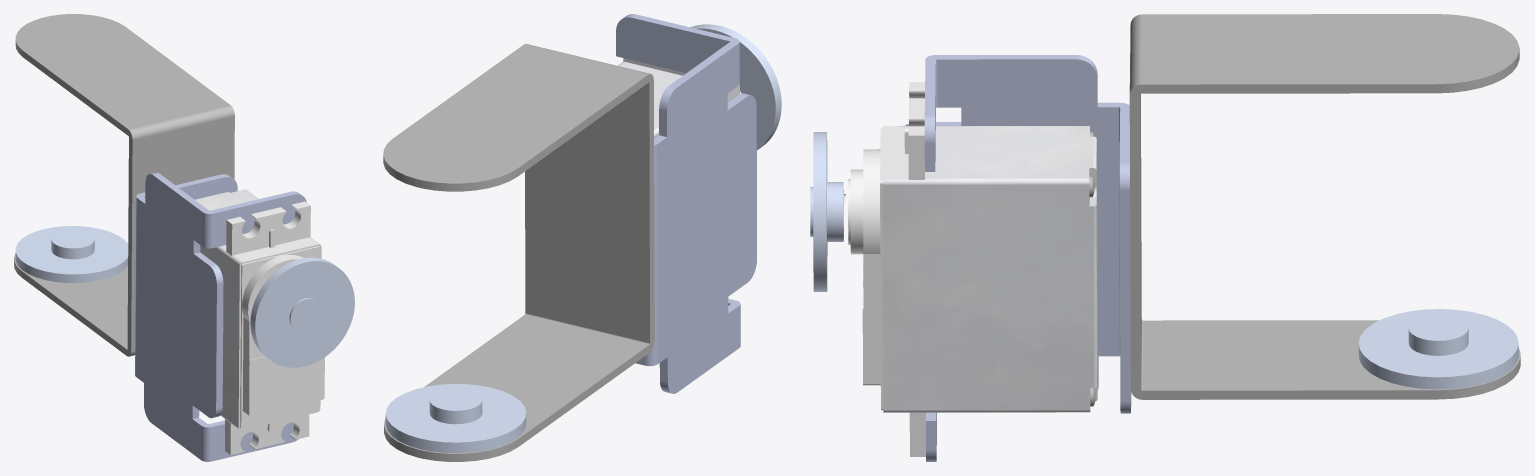
The model's file is r_forearmA_link.dae.
The picture shows the model from 3 angles, left to right: view 1: azimuth 30°, elevation 25°; view 2: azimuth 150°, elevation 25°; view 3: azimuth 270°, elevation 25°; orthographic projection. The views are drawn at different scales.
Parts seen in each view (by area): view 1: Actor0; view 2: Actor0; view 3: Actor0.
Part boxes in pixels (x1=…): Actor0: x1=14, y1=14, x2=354, y2=461; Actor0: x1=383, y1=14, x2=781, y2=461; Actor0: x1=810, y1=14, x2=1520, y2=461.
Bounding box in the file's own units: 0.0265 × 0.0641 × 0.1064.
7 materials, 2 textured.
